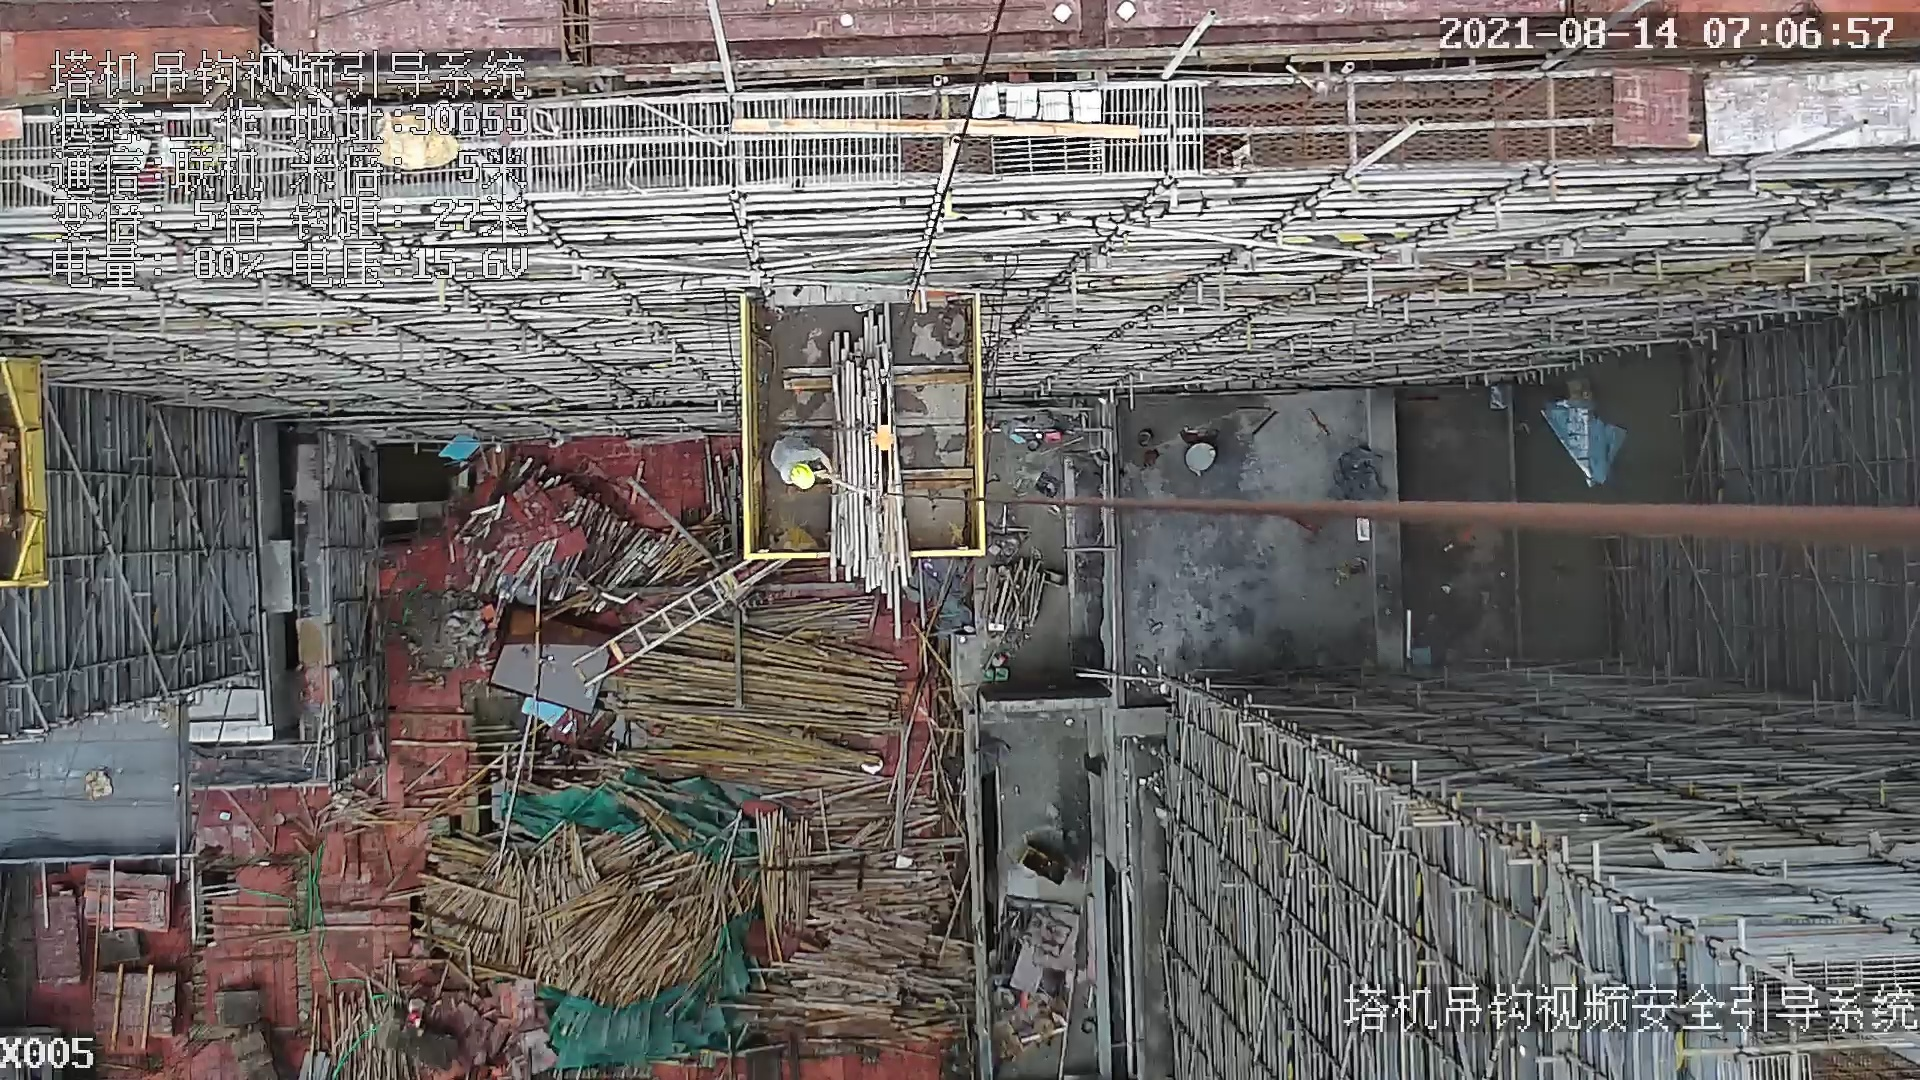helmet: (789, 461, 815, 490)
hook: (867, 373, 904, 508)
person: (769, 435, 851, 497)
